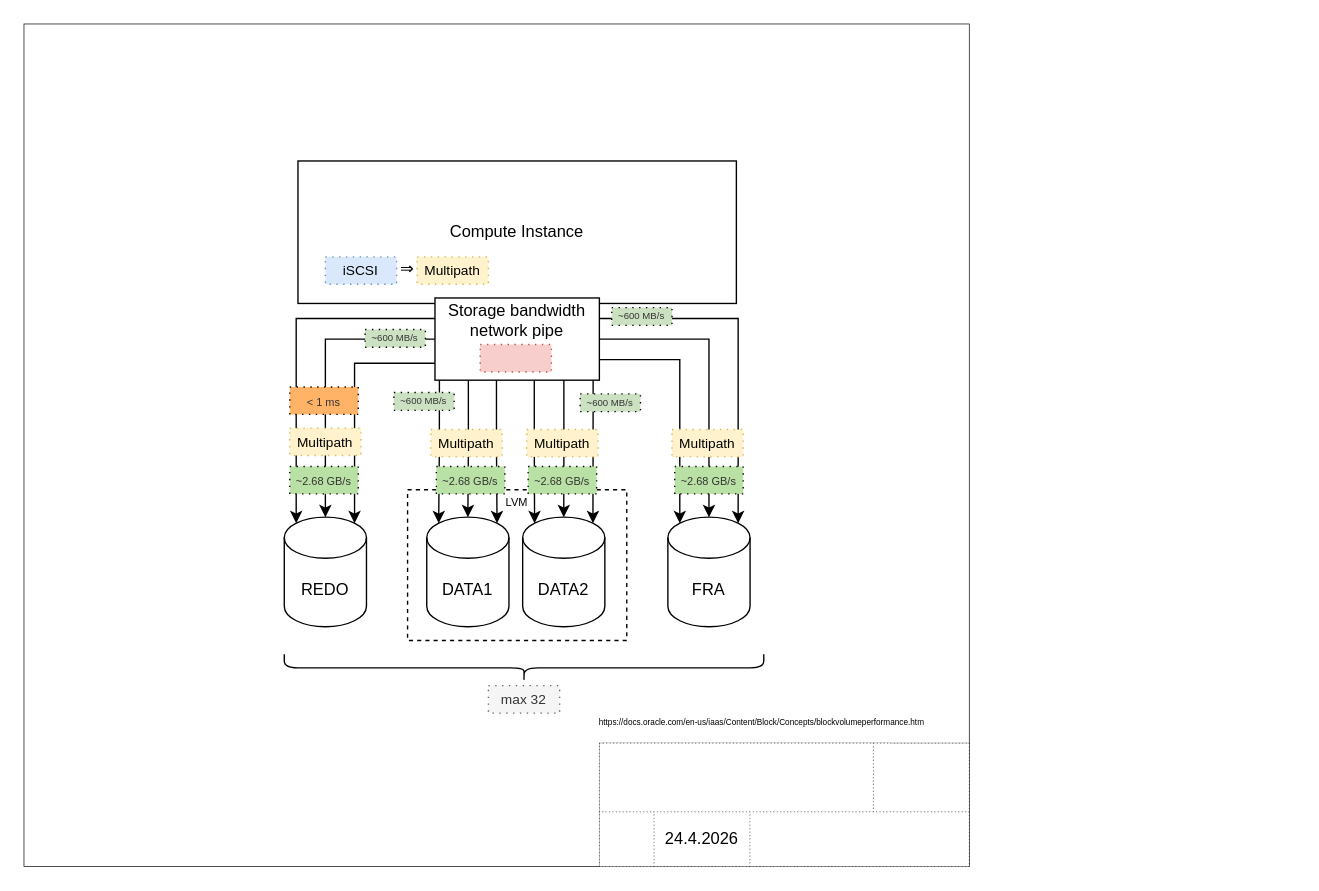
The diagram is 1319 pixels wide and 891 high, and some of its shapes have lost their labels. The centre of each missing label's shape, as x and y in pixels:
"Oracle Database storage domains" belongs at point 735,776.
"performance view" belongs at point 920,776.
"Ryszard Styczynski" belongs at point 859,838.
"v0.1" belongs at point 626,838.
"∑ 4.8 GB/s" belongs at point 515,357.
